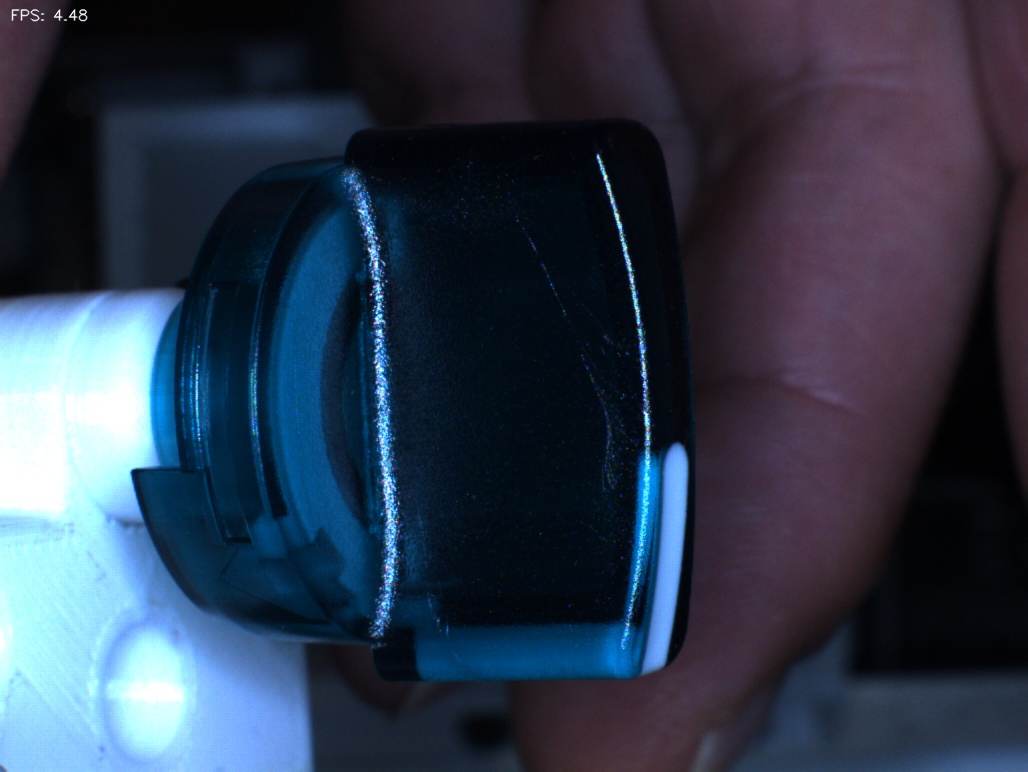Givrage: (505, 201, 648, 495)
